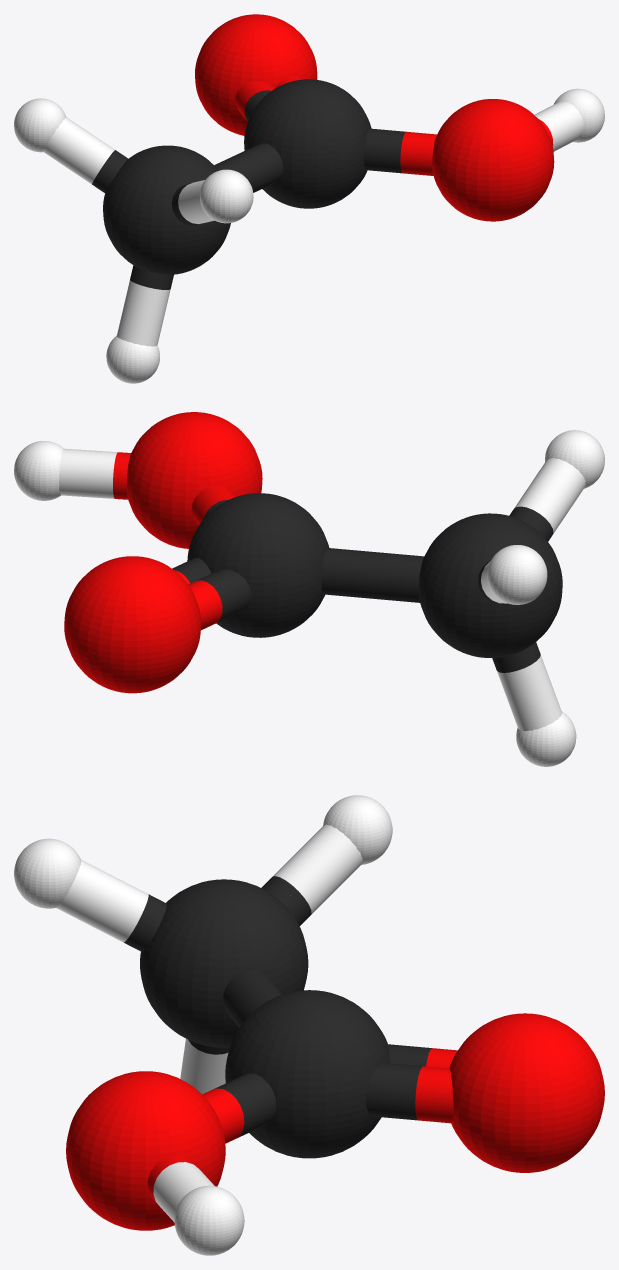
File: acEtanoico.obj
3 renders of one model, top to bottom at view 1: azimuth 30°, elevation 25°; view 2: azimuth 150°, elevation 25°; view 3: azimuth 270°, elevation 25°, orthographic. The views are drawn at different scales.
Visible parts, largest first — view 1: acEtanoico; view 2: acEtanoico; view 3: acEtanoico.
Part boxes in pixels (box(x1,y1,x2,y2)): acEtanoico: box(14, 14, 604, 383); acEtanoico: box(14, 412, 604, 766); acEtanoico: box(14, 795, 604, 1255).
Bounding box in the file's own units: 4.34 × 1.93 × 3.24.
